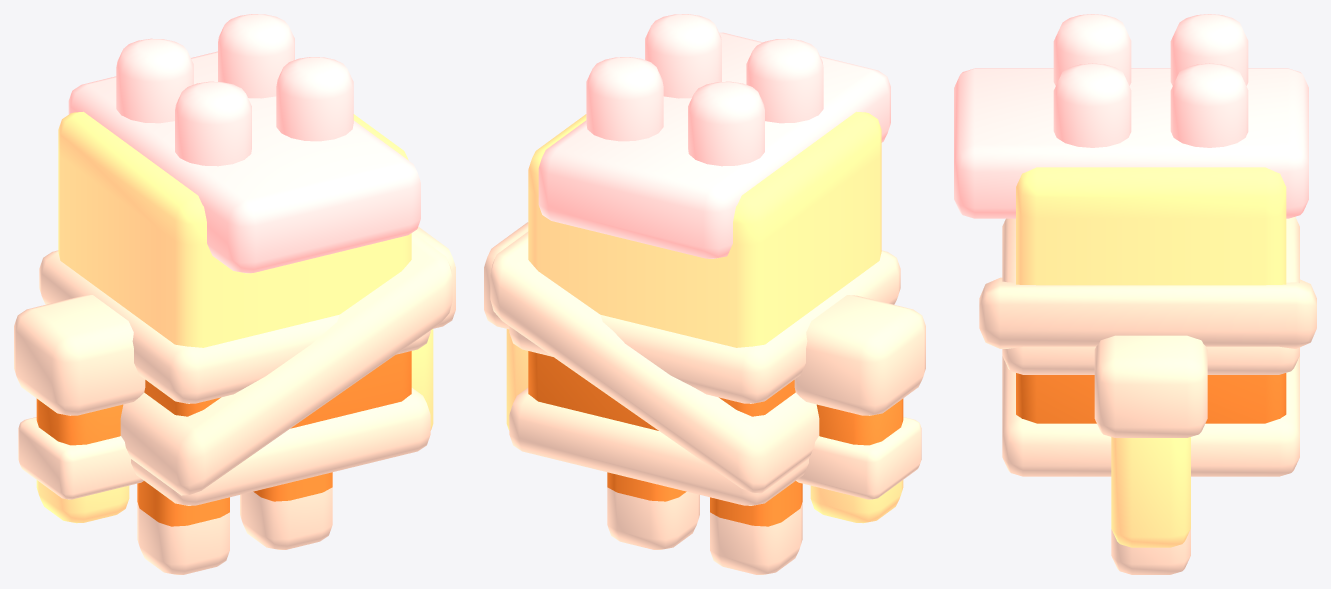
Rendered from Red-Lv3-Viking.fbx.
3 views of the same model, side by side, from view 1: azimuth 30°, elevation 25°; view 2: azimuth 150°, elevation 25°; view 3: azimuth 270°, elevation 25° (orthographic).
Visible parts, largest first — view 1: Red-Lv3-Viking; view 2: Red-Lv3-Viking; view 3: Red-Lv3-Viking.
Boxes of the visible parts, bbox=[...] form: Red-Lv3-Viking: bbox=[14, 14, 455, 574]; Red-Lv3-Viking: bbox=[484, 14, 925, 574]; Red-Lv3-Viking: bbox=[954, 14, 1316, 574].
Size of the model in its own units: 1.34 by 1.57 by 1.05.
